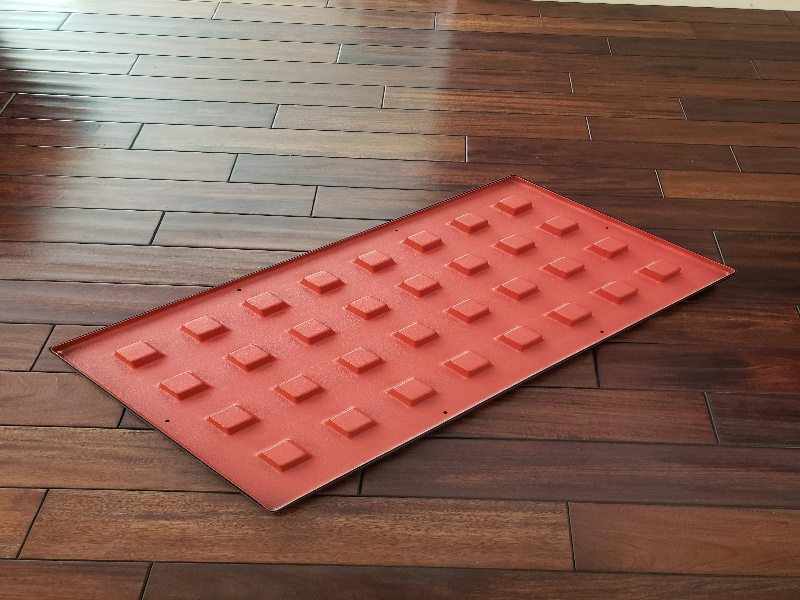ftc_base: (40, 166, 743, 521)
